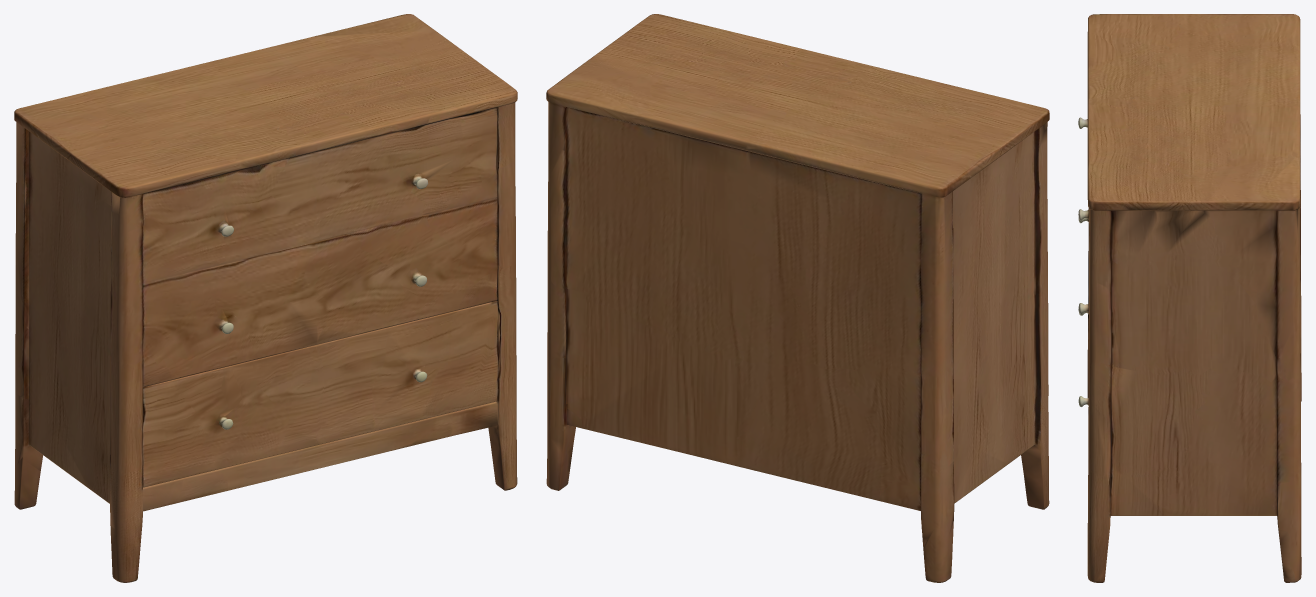
The model's file is chest_of_drawers.000724c4.glb.
3 renders of one model, left to right at view 1: azimuth 30°, elevation 25°; view 2: azimuth 150°, elevation 25°; view 3: azimuth 270°, elevation 25°, orthographic. The views are drawn at different scales.
Visible parts, largest first — view 1: tripo_node_be3aa5e6-5108-4cb6-b957-3963a290f860; view 2: tripo_node_be3aa5e6-5108-4cb6-b957-3963a290f860; view 3: tripo_node_be3aa5e6-5108-4cb6-b957-3963a290f860.
Part boxes in pixels (x1,y1,x2,y2): tripo_node_be3aa5e6-5108-4cb6-b957-3963a290f860: (14,14,517,582); tripo_node_be3aa5e6-5108-4cb6-b957-3963a290f860: (546,14,1049,582); tripo_node_be3aa5e6-5108-4cb6-b957-3963a290f860: (1078,14,1301,582).
Size of the model in its own units: 0.9 by 0.8499 by 0.4499.
Materials: 1 (1 with a texture image).
